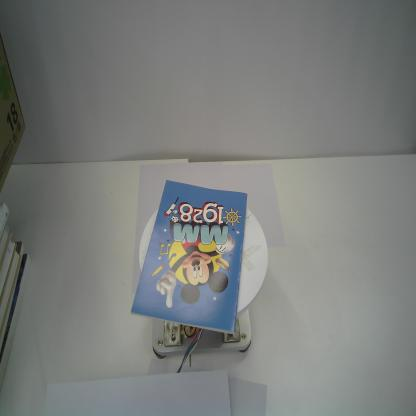Stationery: (130, 178, 248, 335)
